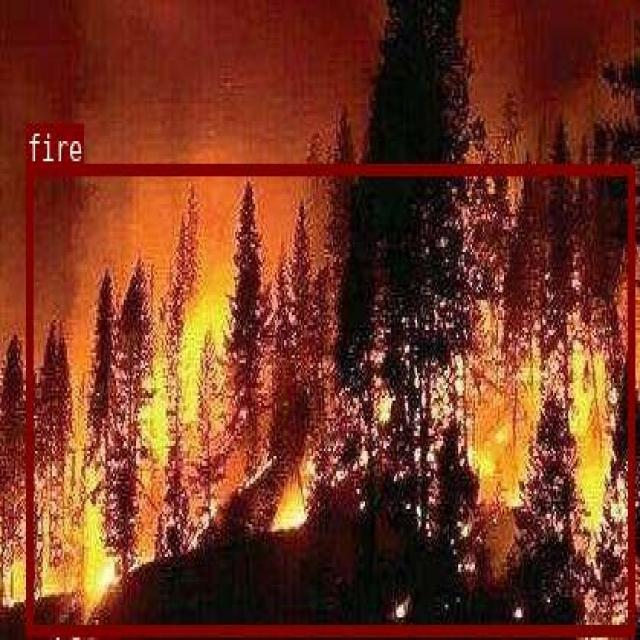fire: (25, 162, 634, 633)
